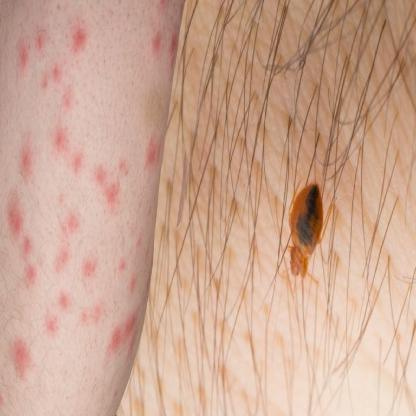Bed Bug: (4, 196, 38, 290), (94, 151, 128, 219), (106, 305, 140, 369), (48, 127, 88, 180), (3, 334, 35, 380), (55, 195, 83, 243), (18, 128, 38, 184), (64, 20, 89, 58), (144, 124, 162, 176), (76, 249, 102, 283), (78, 301, 102, 334), (39, 66, 62, 96), (47, 252, 73, 277), (14, 44, 32, 80), (131, 233, 151, 264), (40, 313, 62, 337), (53, 288, 73, 312), (166, 34, 178, 70), (64, 82, 76, 115), (150, 30, 162, 59), (34, 32, 46, 56), (128, 275, 139, 300), (115, 256, 127, 274), (0, 389, 8, 415), (154, 1, 172, 11)
